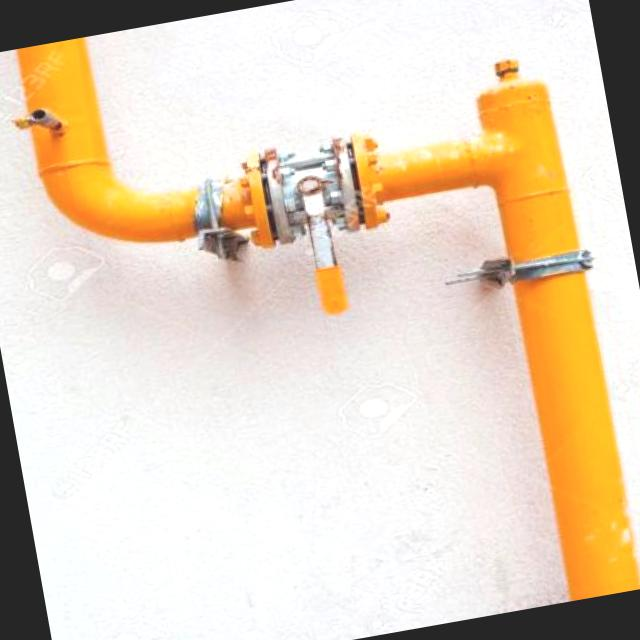gas: (477, 79, 640, 601), (46, 114, 569, 260), (19, 35, 132, 260)
